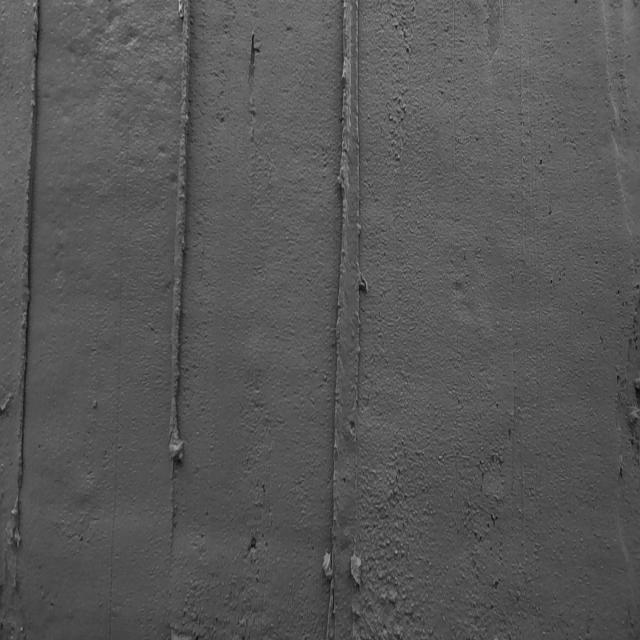trowels marks: (326, 0, 366, 640), (13, 0, 46, 575), (164, 3, 194, 514)
